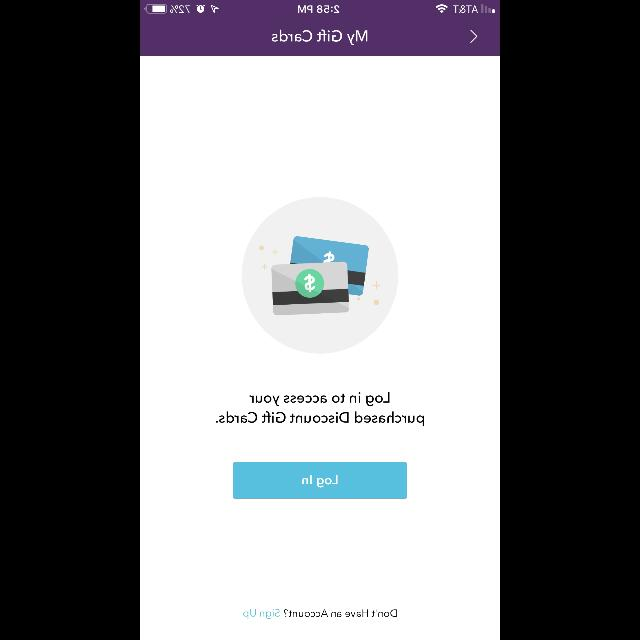icon: (470, 31, 478, 44)
image: (242, 196, 398, 354)
text: (216, 392, 424, 426), (272, 30, 368, 46), (244, 609, 396, 619)
textbutton: (233, 462, 407, 498)
uppertaskbar: (140, 0, 500, 14)
